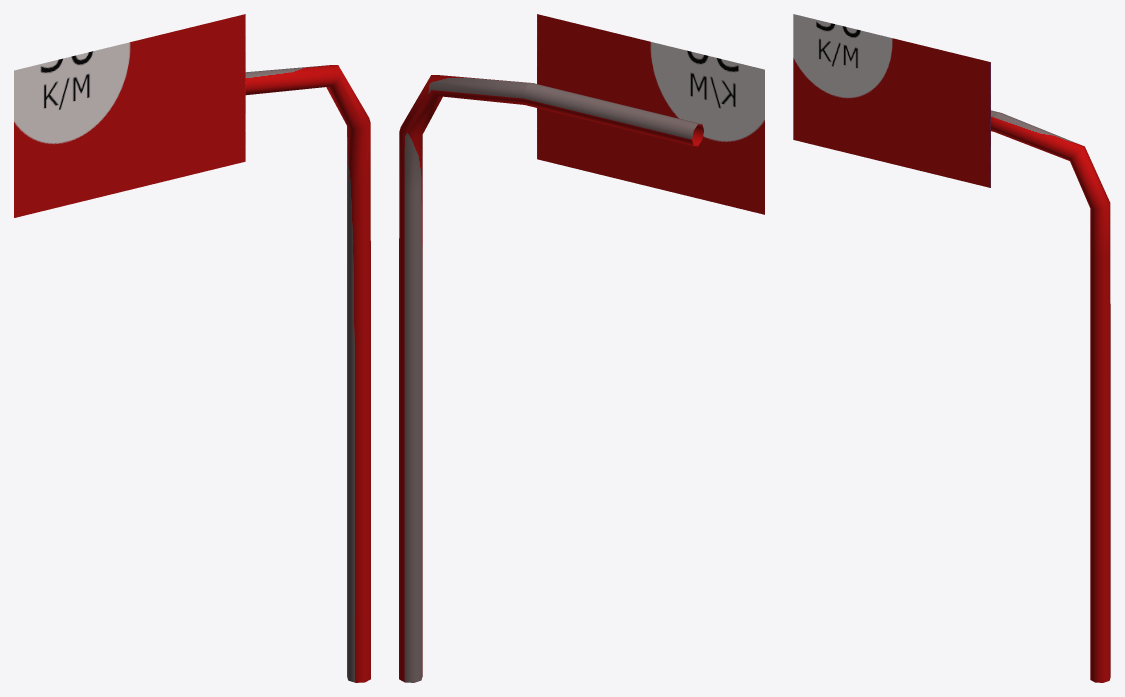
Rendered from RoadSign2.fbx.
3 views of the same model, side by side, from view 1: azimuth 30°, elevation 25°; view 2: azimuth 150°, elevation 25°; view 3: azimuth 330°, elevation 25° (orthographic). The views are drawn at different scales.
Visible parts, largest first — view 1: RoadSign2; view 2: RoadSign2; view 3: RoadSign2.
Boxes of the visible parts, bbox=[...] form: RoadSign2: bbox=[14, 14, 370, 682]; RoadSign2: bbox=[399, 14, 764, 682]; RoadSign2: bbox=[793, 14, 1110, 682].
Bounding box in the file's own units: 254 × 467 × 16.6.
